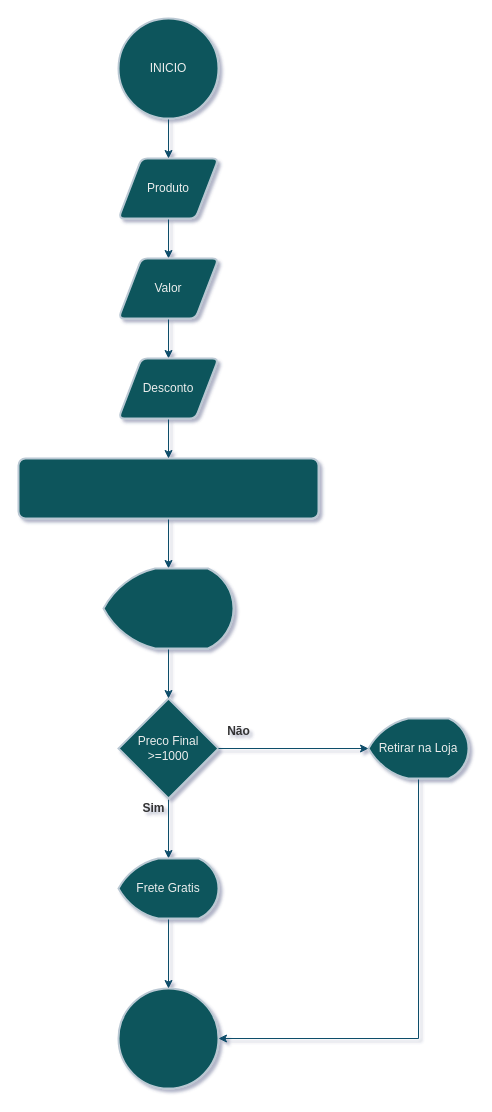
Some shapes in this 492 by 1112 pixel diagram are drawn without their labels. Each missing label, with the centre of its shape:
FIM: the point at 168,1038
Preço Final = valor - (Valor * Desconto / 100): the point at 168,488
Produto Valor Desconto Preco Final: the point at 168,608
